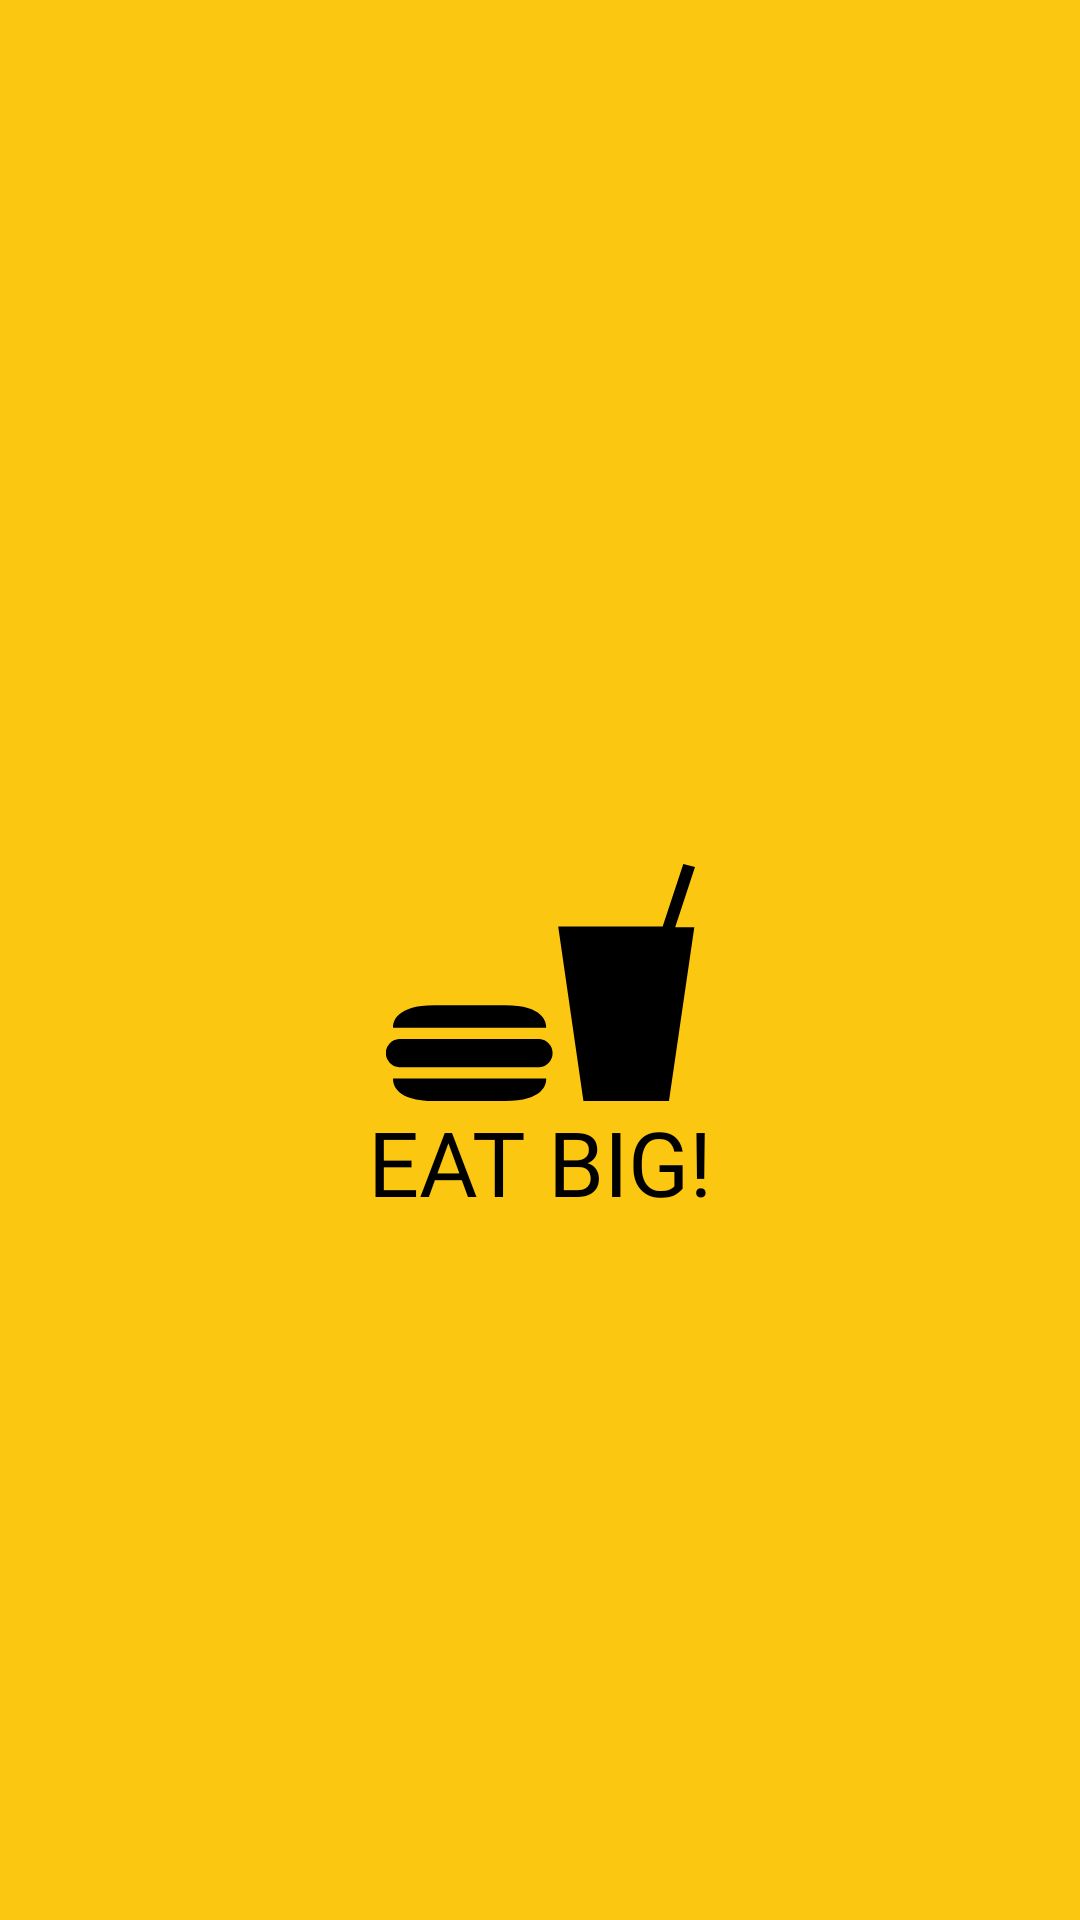

Icon click points for this 1080*1920 phone screenshot, format (x,y):
map food: (540,982)
